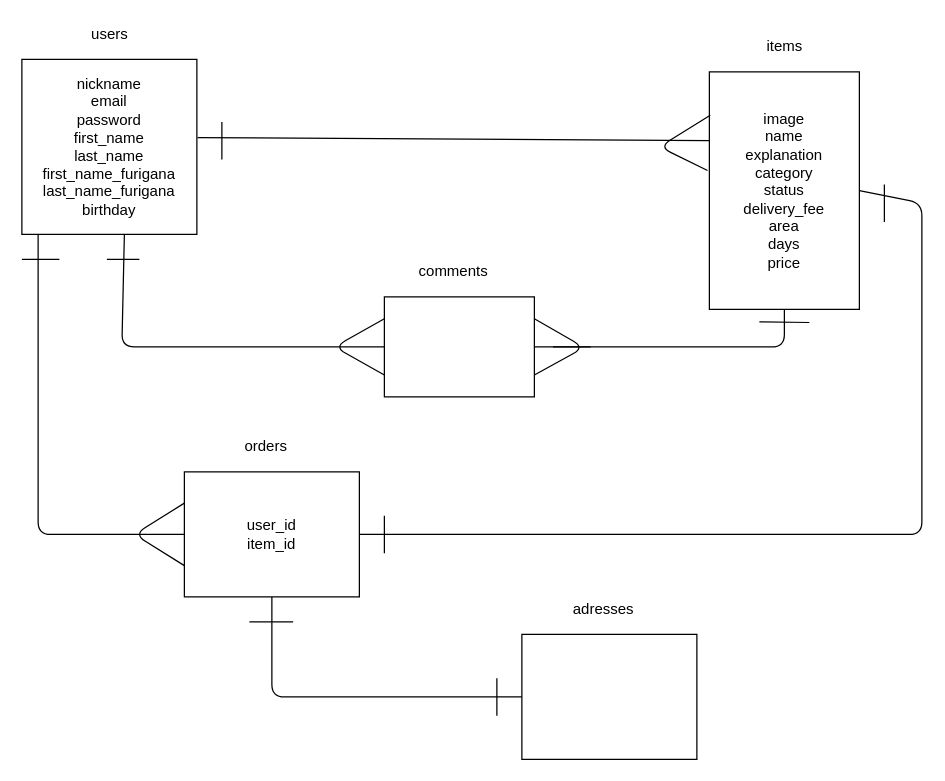
Image size: 945x781. Some labels were removed from this diagram. The centre of each missing label's shape, as x and y in pixels:
postalcode prefecture municipality adress buildingname tel: point (609, 696)
text user_id item_id: point (458, 346)
